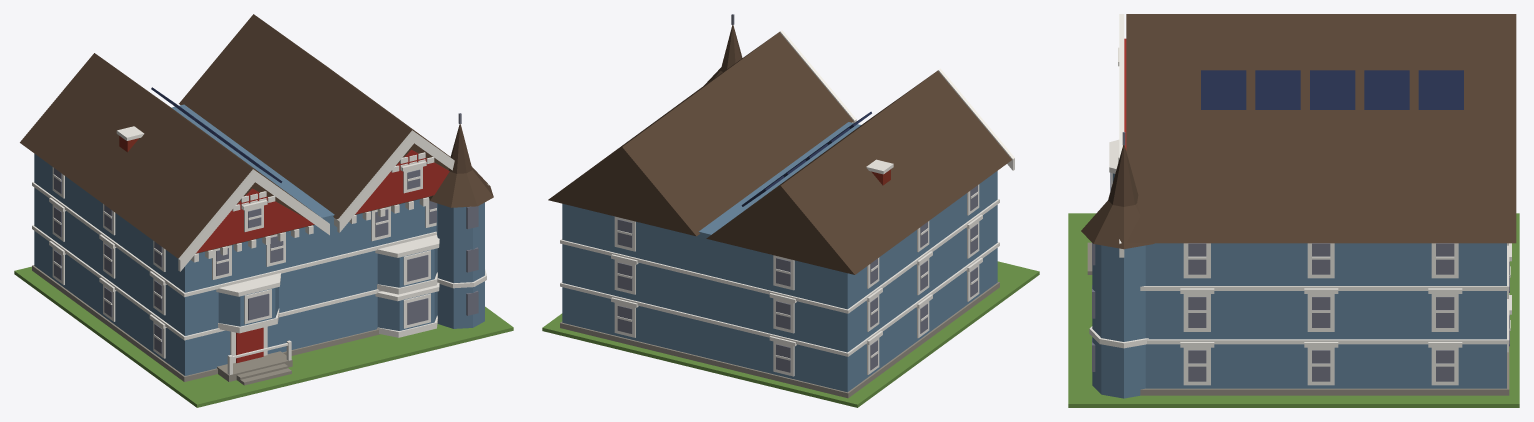
The model's file is house-2x2-3f-victorian-a-solar.glb.
3 views of the same model, side by side, from view 1: azimuth 30°, elevation 25°; view 2: azimuth 150°, elevation 25°; view 3: azimuth 270°, elevation 25° (orthographic). The views are drawn at different scales.
Parts seen in each view (by area): view 1: house-2x2-3f-victorian-a-solar; view 2: house-2x2-3f-victorian-a-solar; view 3: house-2x2-3f-victorian-a-solar.
Boxes of the visible parts, <box> form: house-2x2-3f-victorian-a-solar: <box>14,14,513,407</box>; house-2x2-3f-victorian-a-solar: <box>542,14,1039,407</box>; house-2x2-3f-victorian-a-solar: <box>1068,14,1519,407</box>.
Bounding box in the file's own units: 1.99 × 1.25 × 1.99.
Materials: 1 (1 with a texture image).
